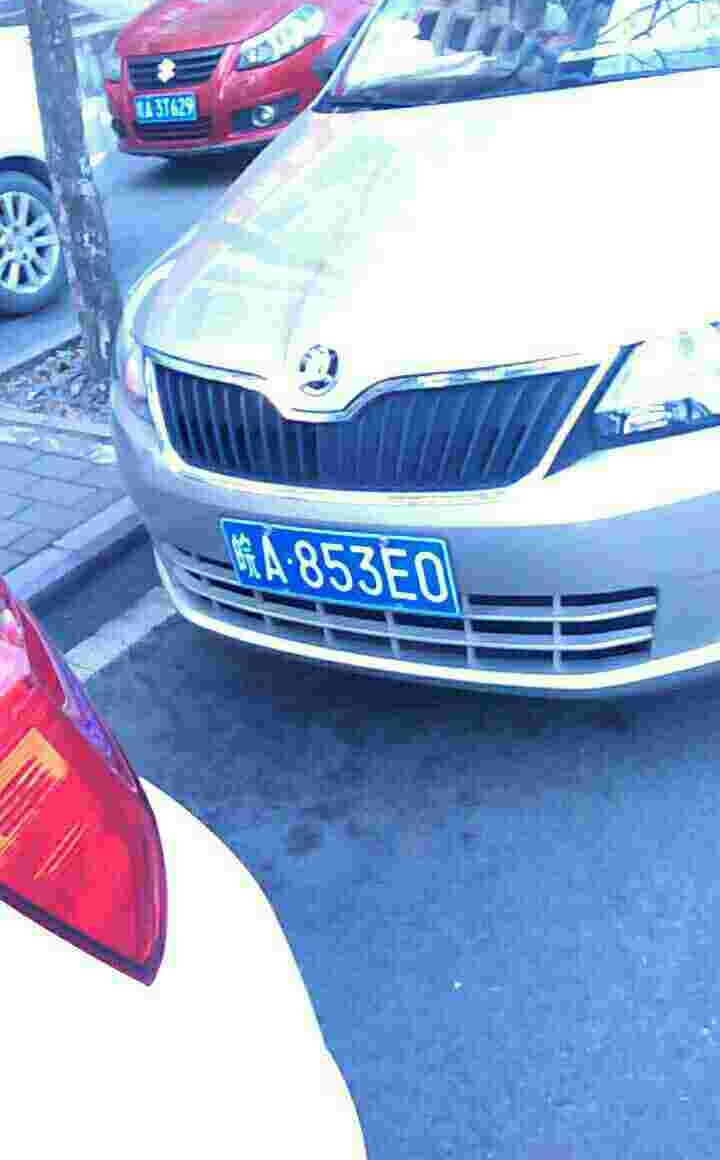license_plate: (221, 521, 461, 622)
